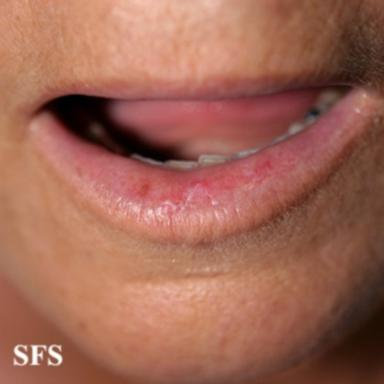lichen: (126, 151, 299, 221)
